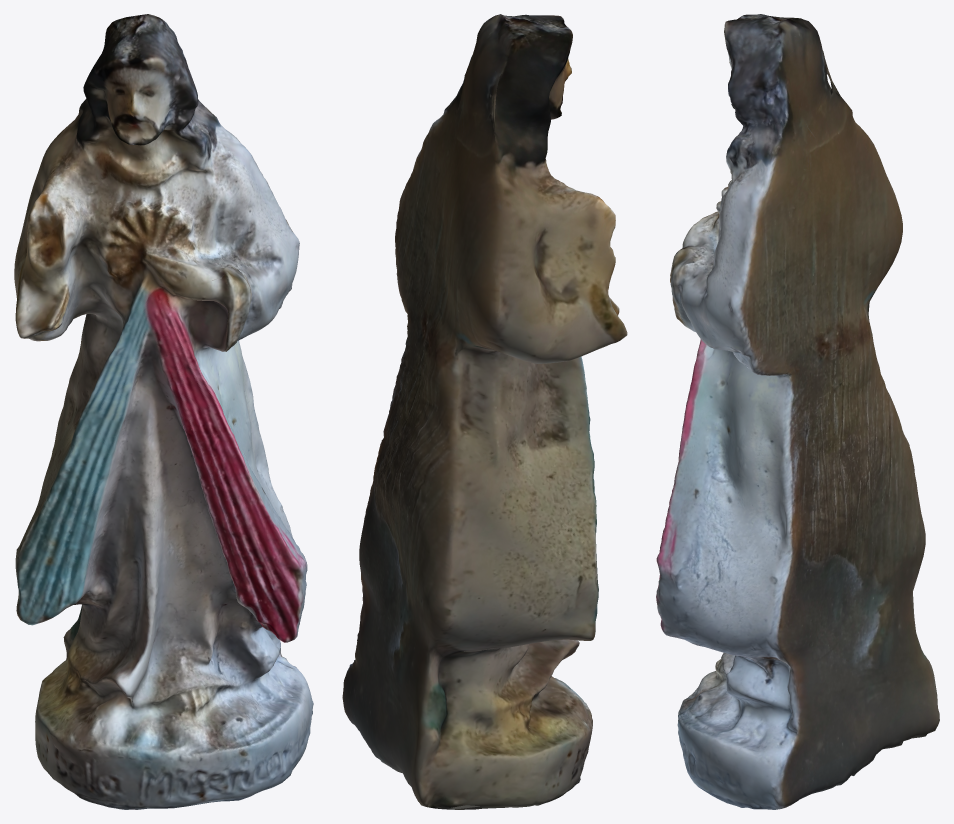
Rendered from jesus.glb.
3 renders of one model, left to right at view 1: azimuth 30°, elevation 25°; view 2: azimuth 150°, elevation 25°; view 3: azimuth 270°, elevation 25°, orthographic. The views are drawn at different scales.
Parts seen in each view (by area): view 1: 3DModel; view 2: 3DModel; view 3: 3DModel.
Part boxes in pixels (bbox=[...]): 3DModel: bbox=[14, 14, 313, 809]; 3DModel: bbox=[342, 14, 627, 809]; 3DModel: bbox=[656, 14, 939, 809].
Size of the model in its own units: 0.2905 by 0.7392 by 0.2578.
1 material, 1 textured.
